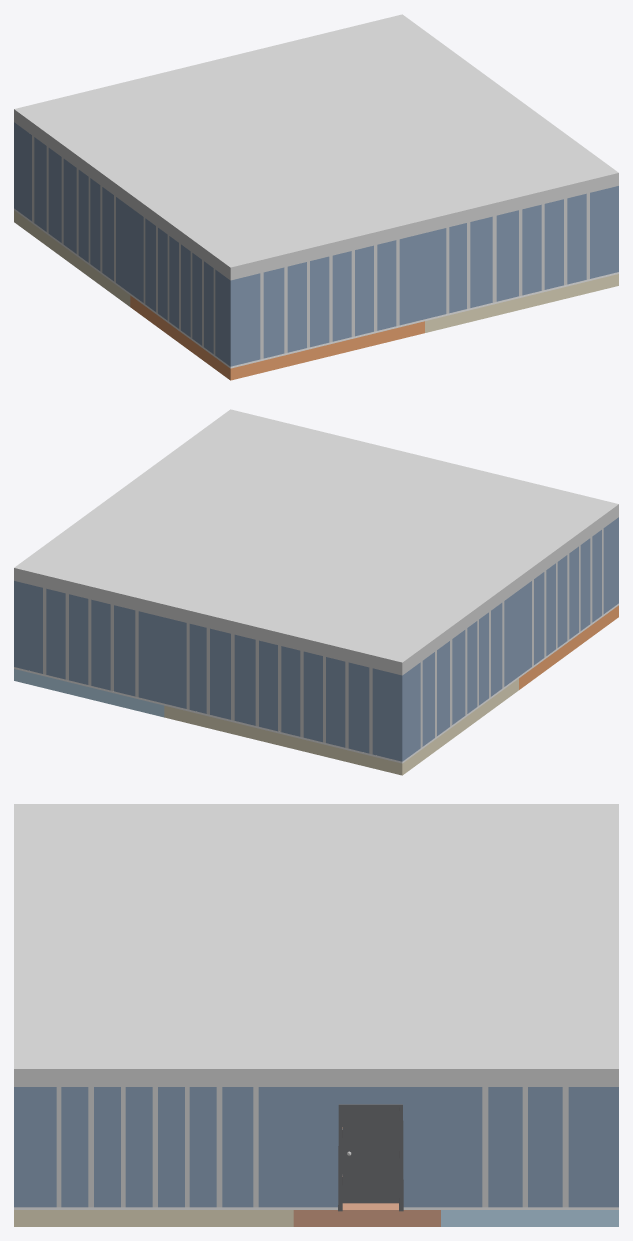
The model's file is house.fbx.
3 renders of one model, top to bottom at view 1: azimuth 30°, elevation 25°; view 2: azimuth 150°, elevation 25°; view 3: azimuth 270°, elevation 25°, orthographic. The views are drawn at different scales.
Visible parts, largest first — view 1: Ceiling, Walls, Ground, WallsTile; view 2: Ceiling, Walls, Ground, WallsTile; view 3: Ceiling, Walls, Ground, Door_003, WallsTile, Wall_028.
Part boxes in pixels (x1,y1,x2,y2): Ceiling: [14, 14, 618, 280]; Walls: [14, 122, 618, 366]; Ground: [14, 210, 618, 380]; WallsTile: [14, 208, 618, 368]; Ceiling: [14, 409, 618, 675]; Walls: [14, 517, 618, 761]; Ground: [14, 605, 618, 775]; WallsTile: [14, 603, 618, 763]; Ceiling: [14, 804, 618, 1086]; Walls: [14, 1087, 618, 1207]; Ground: [14, 1127, 618, 1226]; Door_003: [342, 1107, 399, 1203]; WallsTile: [14, 1207, 618, 1209]; Wall_028: [338, 1104, 403, 1211].
Size of the model in its own units: 1161 by 1118 by 322.
